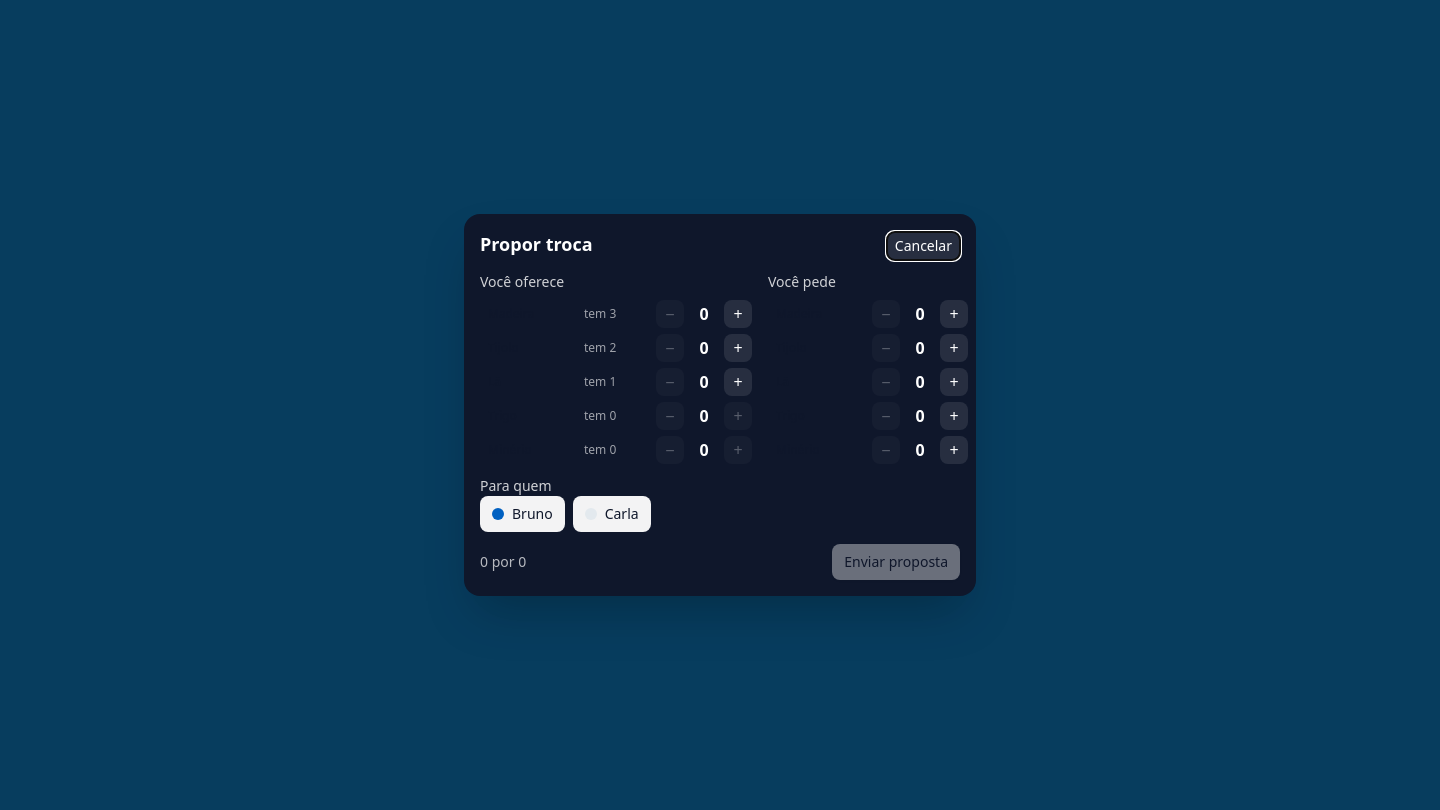
Test: compositor de proposta › sem alvo marcado não há proposta
Click the button named "mais Madeira em ofereco". click: (738, 314)
box: [724,300,752,328]
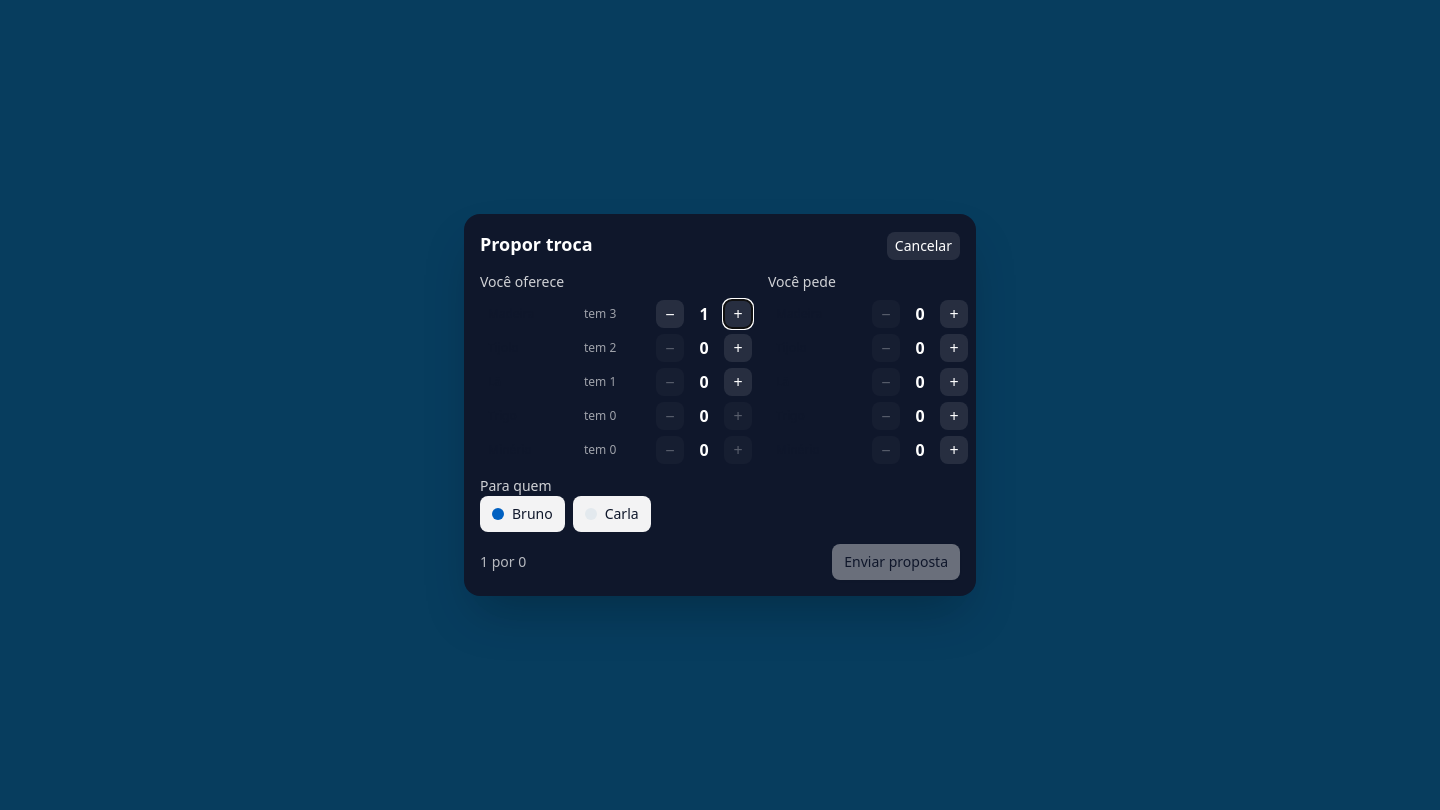
Click the button named "mais Minério em peco". click: (954, 450)
box: [940,436,968,464]
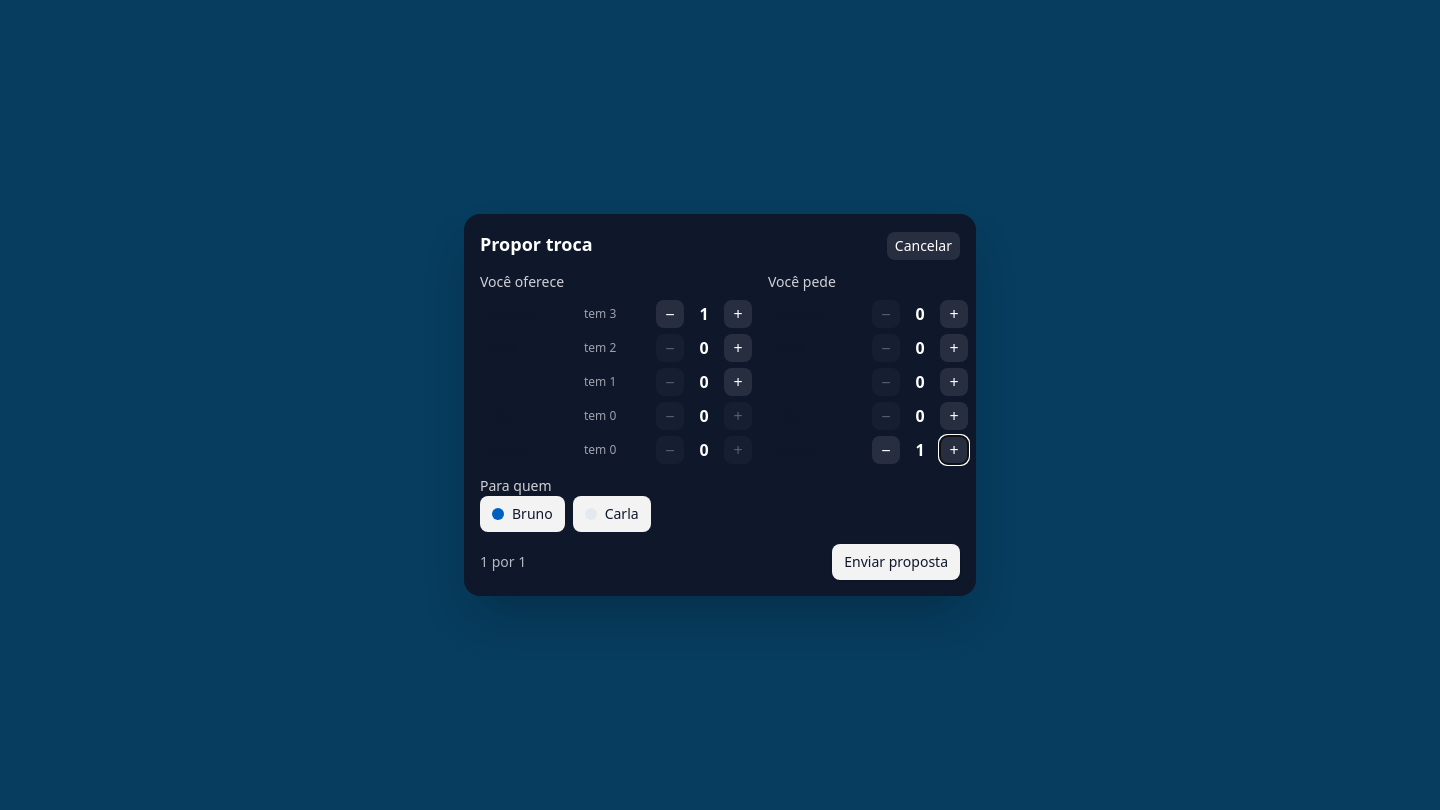
Click the button "Bruno". click: (522, 514)
box: [480,496,565,532]
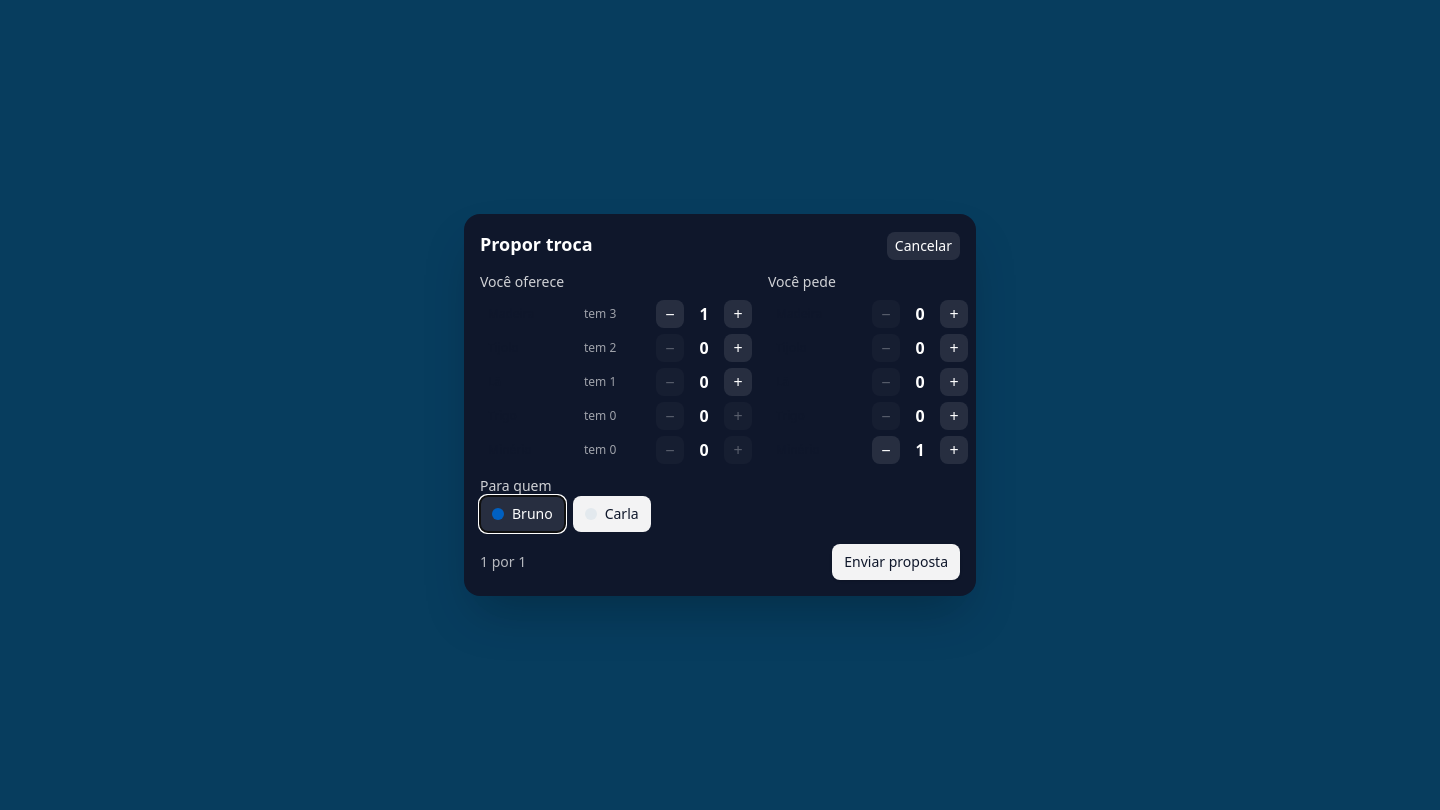
Click the button "Carla". click: (612, 514)
box: [573,496,651,532]
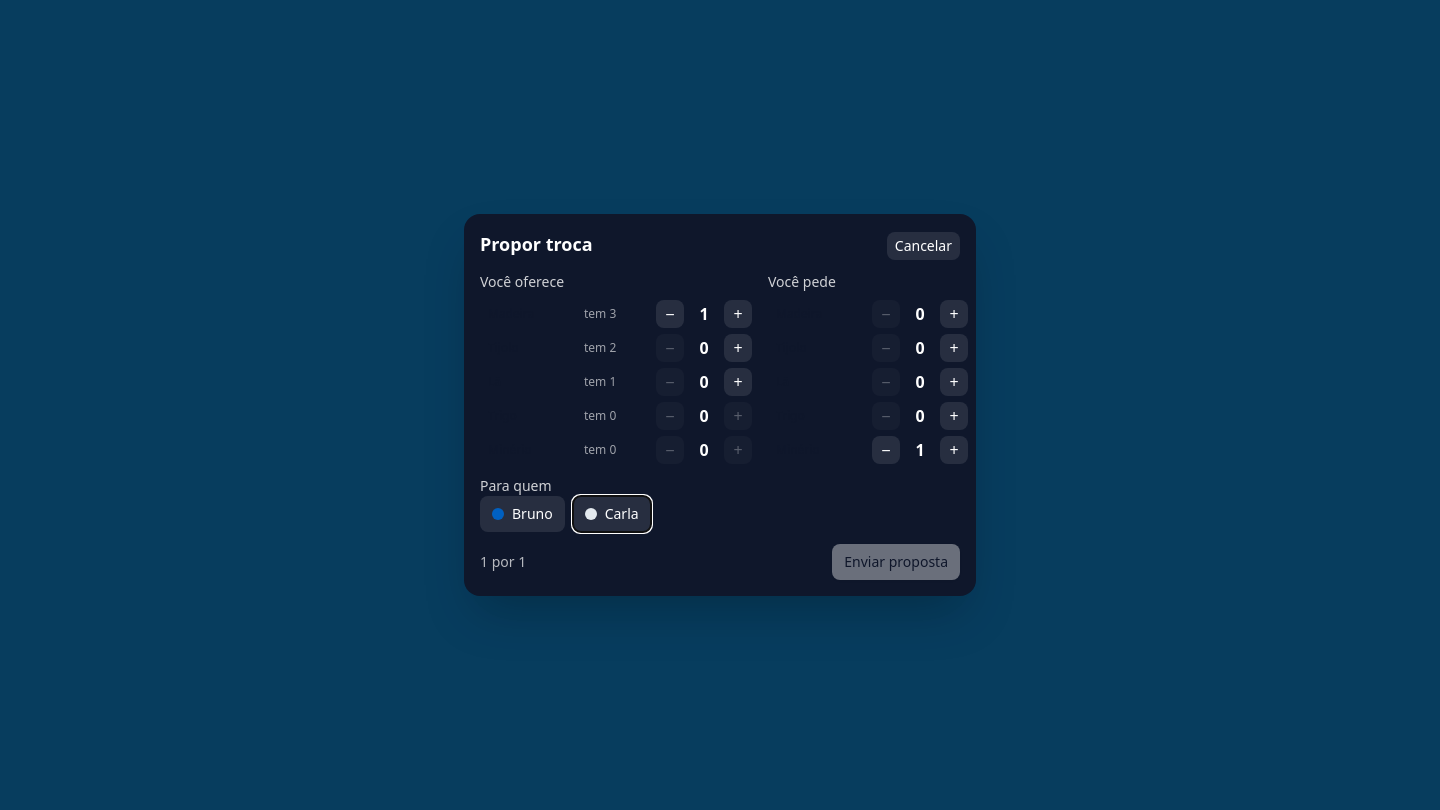
Expected: the button "Enviar proposta" is disabled, [832,544,960,580]
